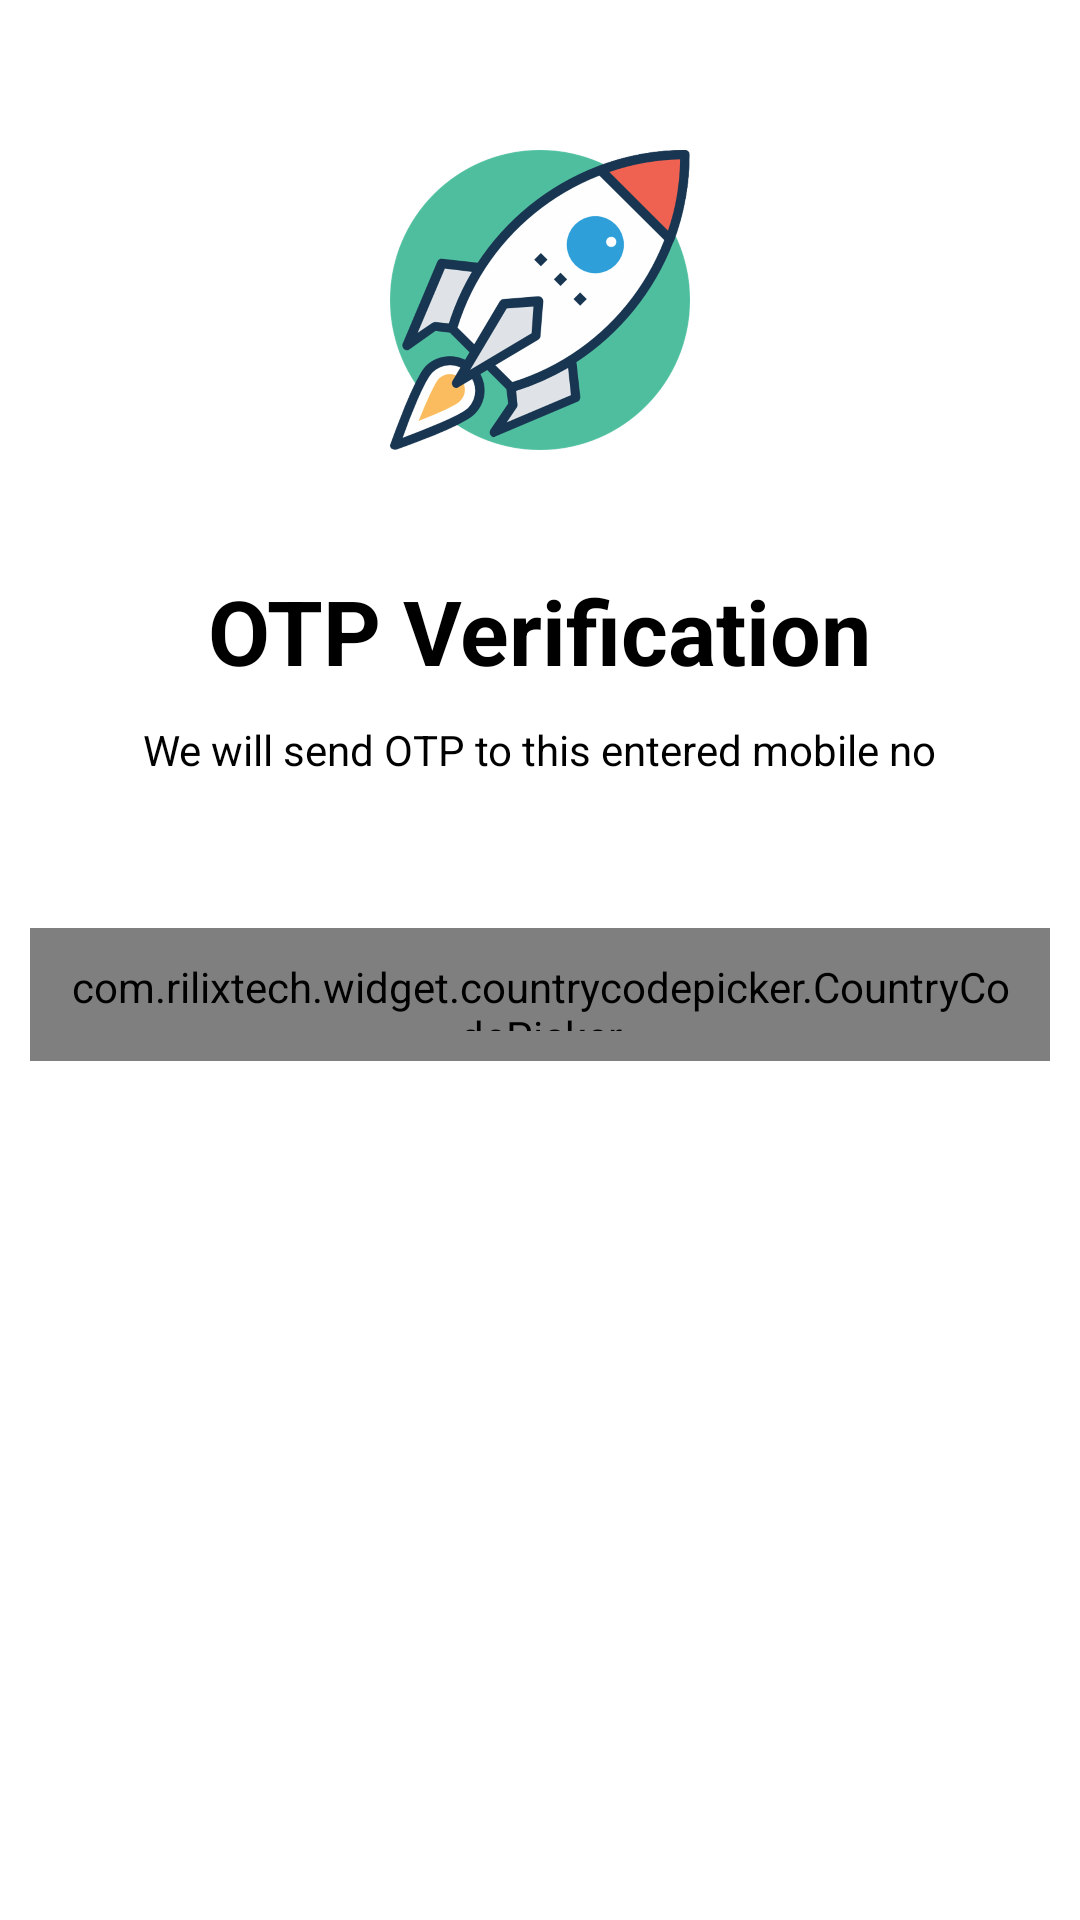

Icons on this 1080x1920 Android screen, each with the point to tap as (x,y):
rocket launch: (540,300)
